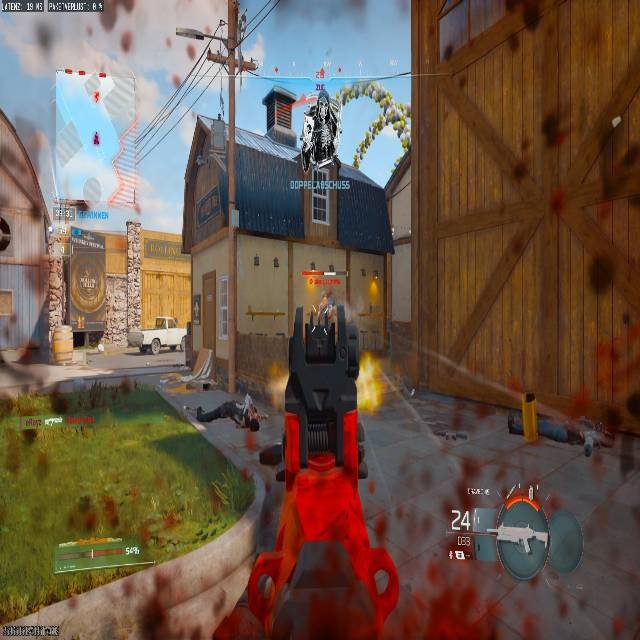head: (247, 417, 260, 431)
player: (296, 86, 341, 178), (315, 290, 336, 334)
